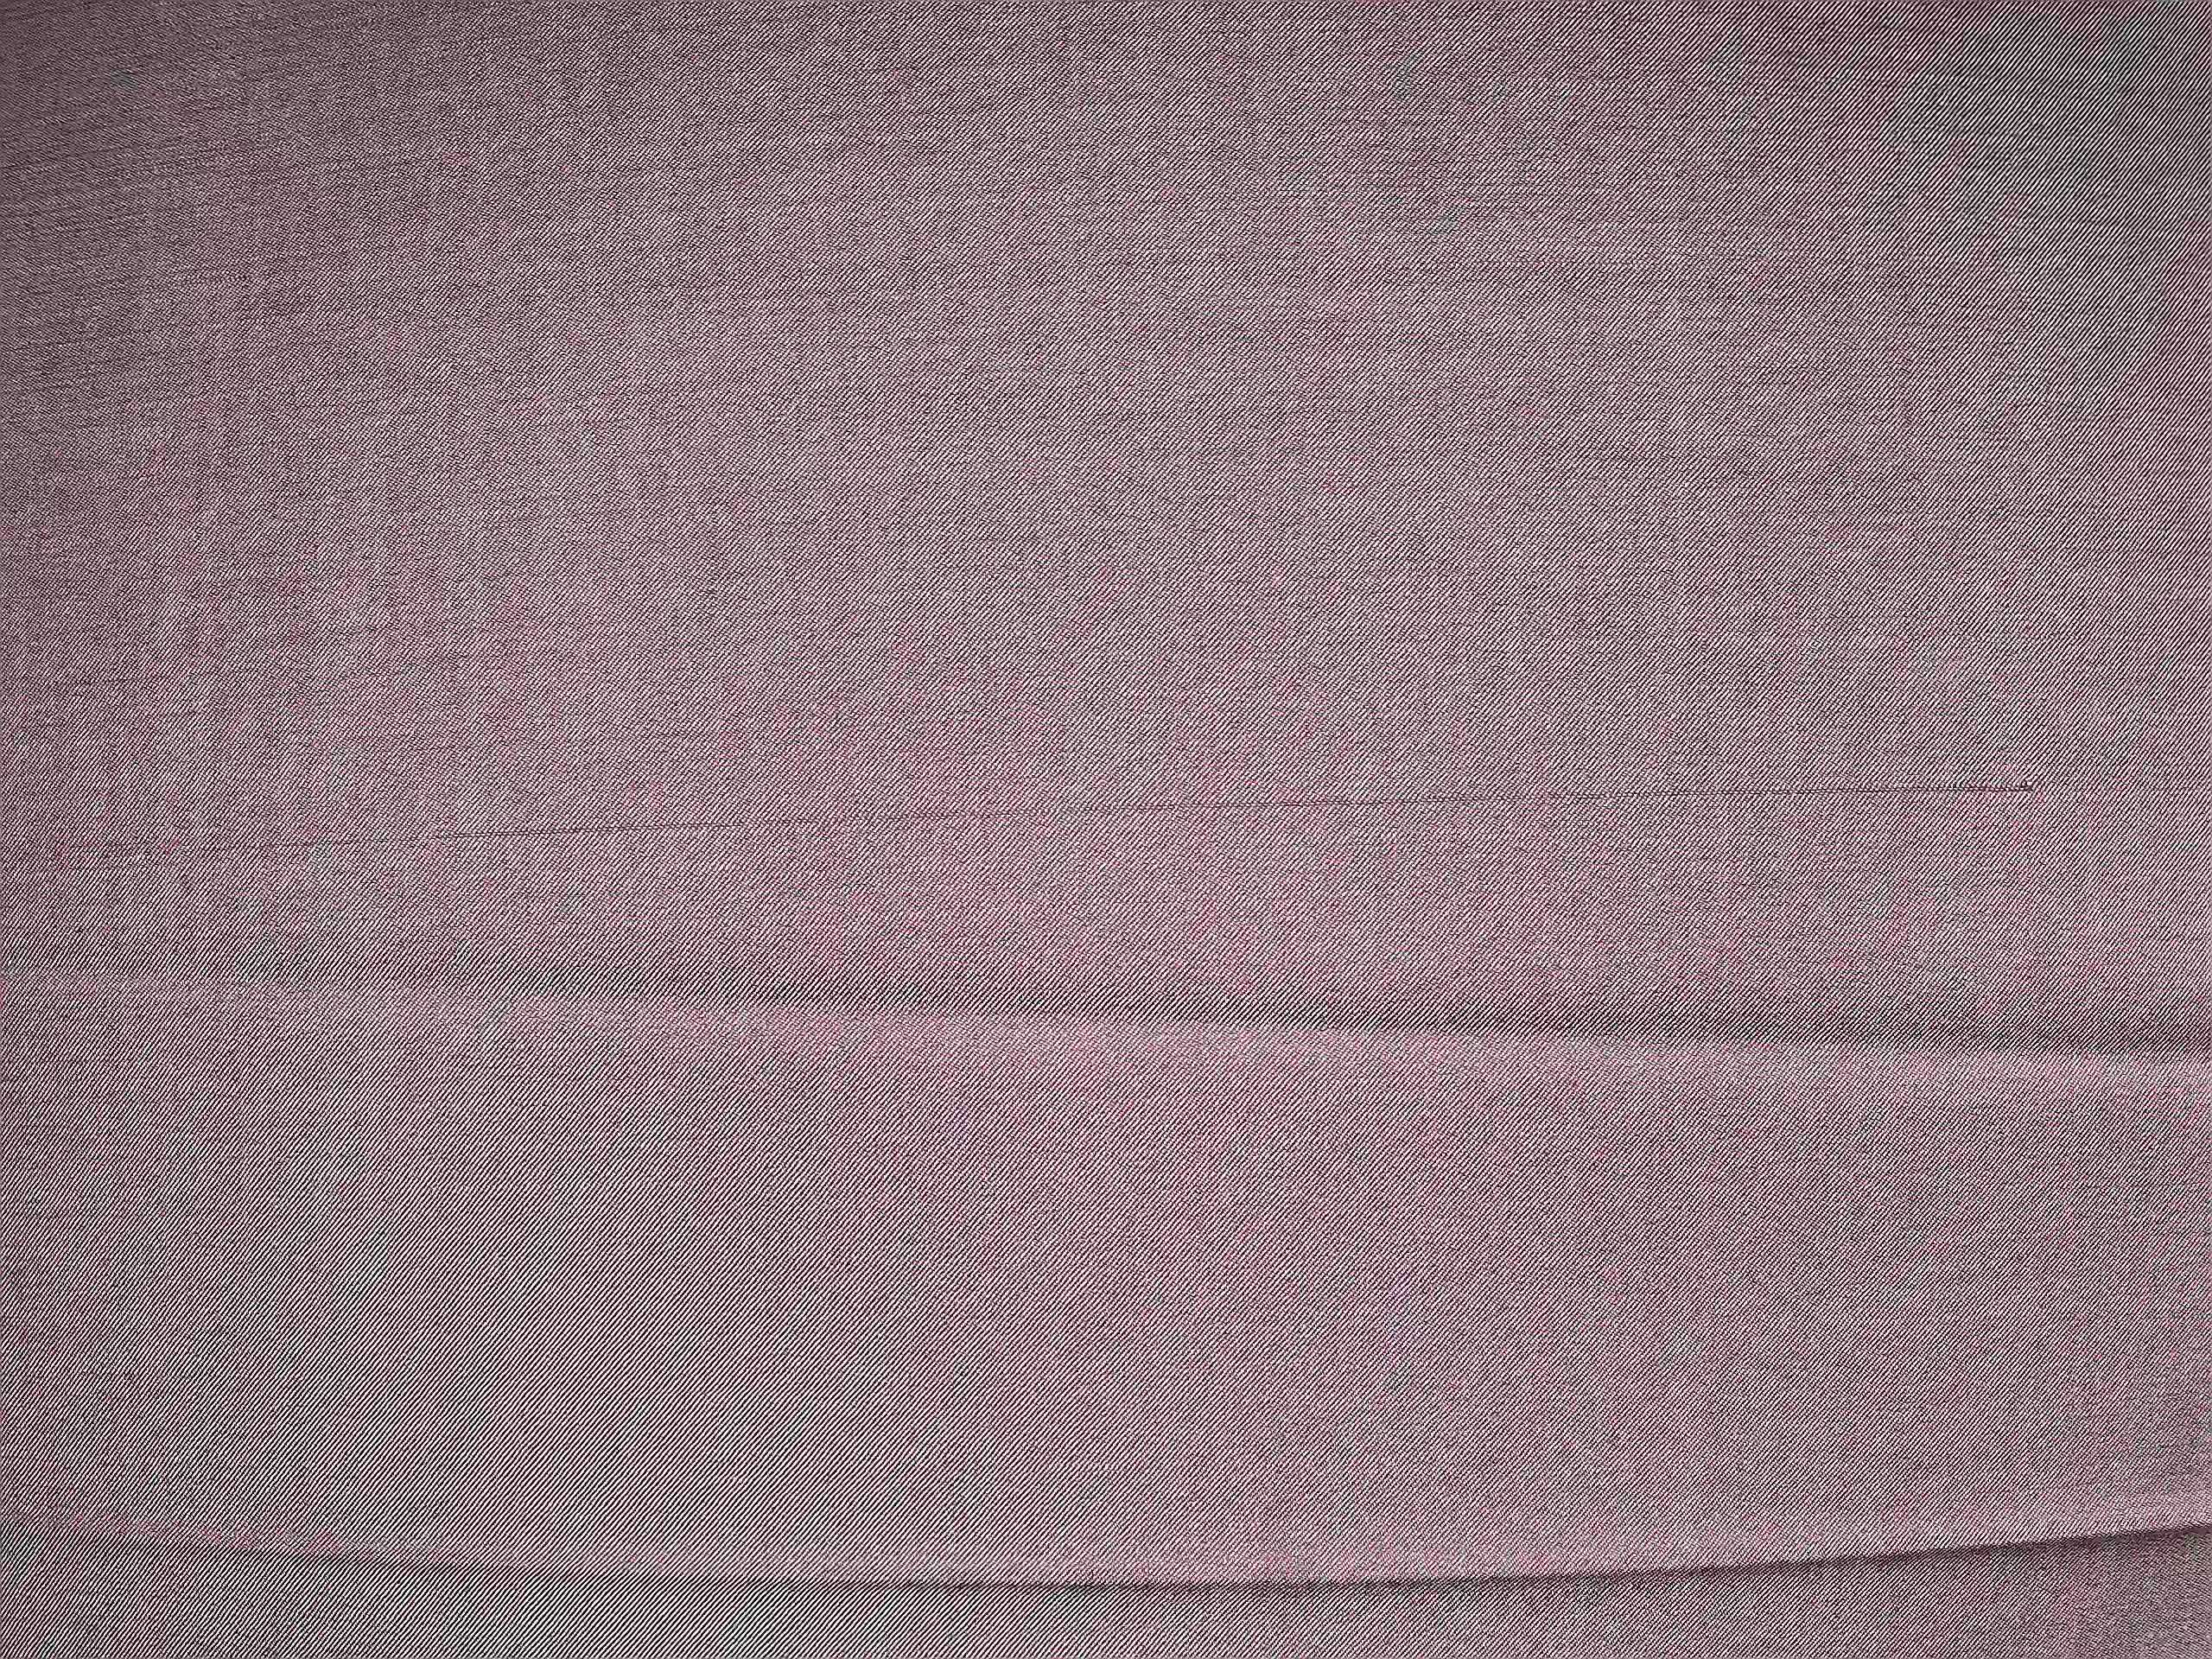thin-spinning: (521, 779, 2055, 828)
